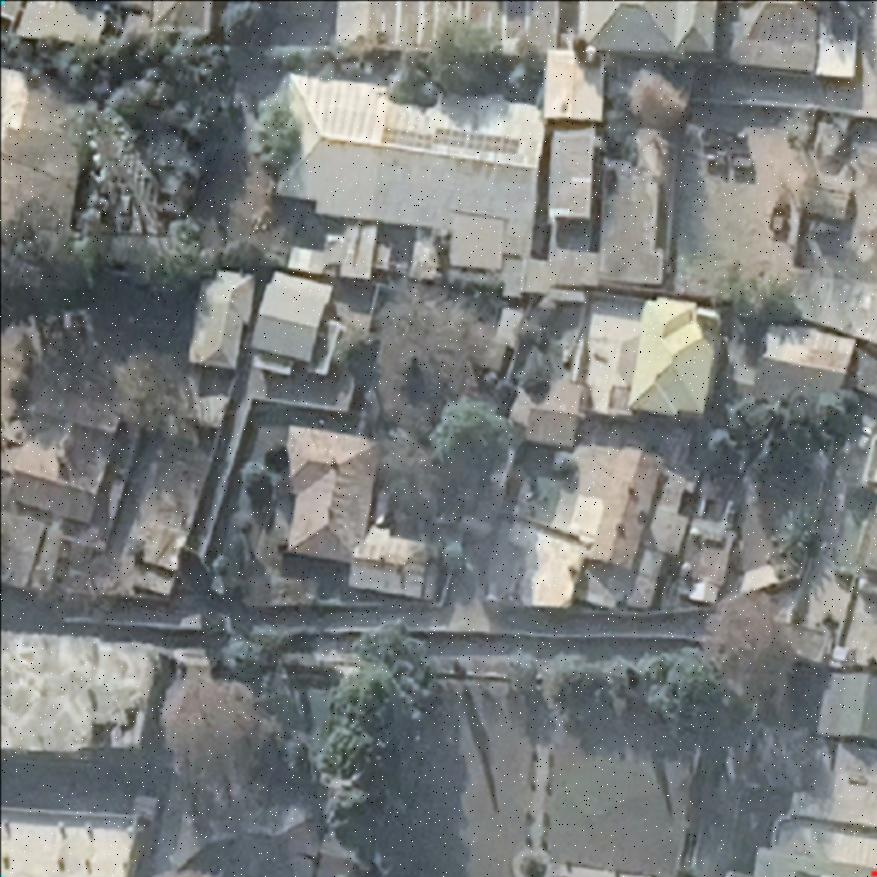Solarpanel: (376, 120, 524, 162)
